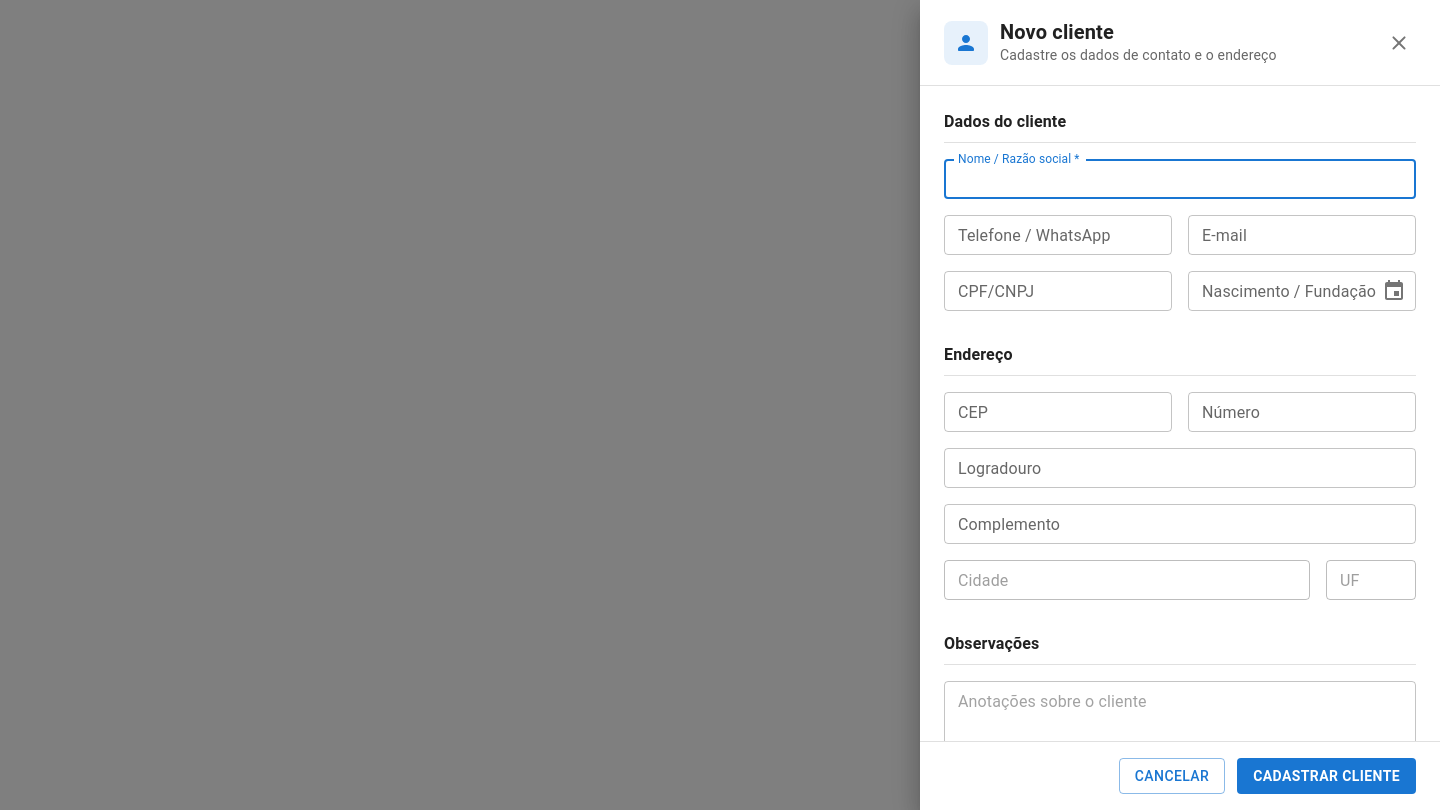
ClientDialog (painel lateral) › sem nome não envia e mostra o erro
Click the button "Cadastrar cliente" at point(1327, 776), box [1237,758,1416,794]
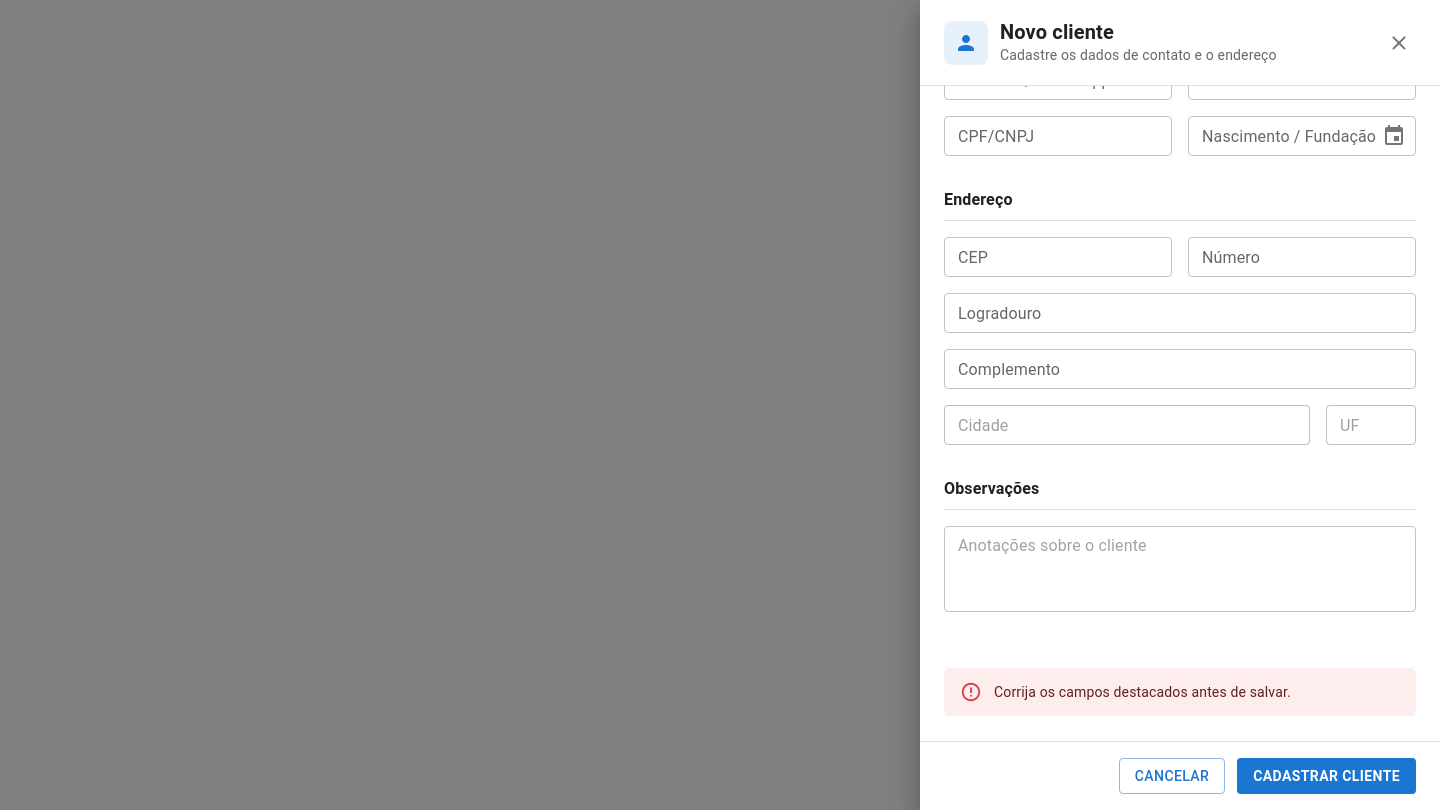
Check: the text "Corrija os campos destacados antes de salvar." is shown, box [994,684,1291,700]
